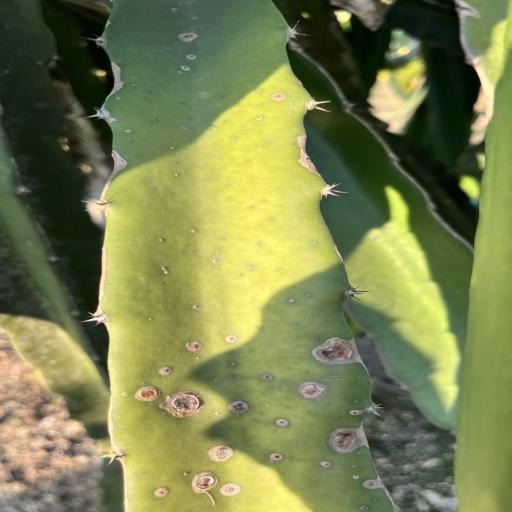stemcanker: (149, 486, 173, 498), (282, 298, 302, 306), (224, 334, 240, 343), (287, 296, 299, 306), (121, 390, 131, 398), (188, 228, 200, 234), (120, 392, 132, 398), (190, 228, 200, 235), (264, 403, 271, 409), (195, 356, 202, 361), (116, 97, 124, 101), (264, 403, 270, 408), (357, 452, 364, 456), (354, 400, 360, 404)
